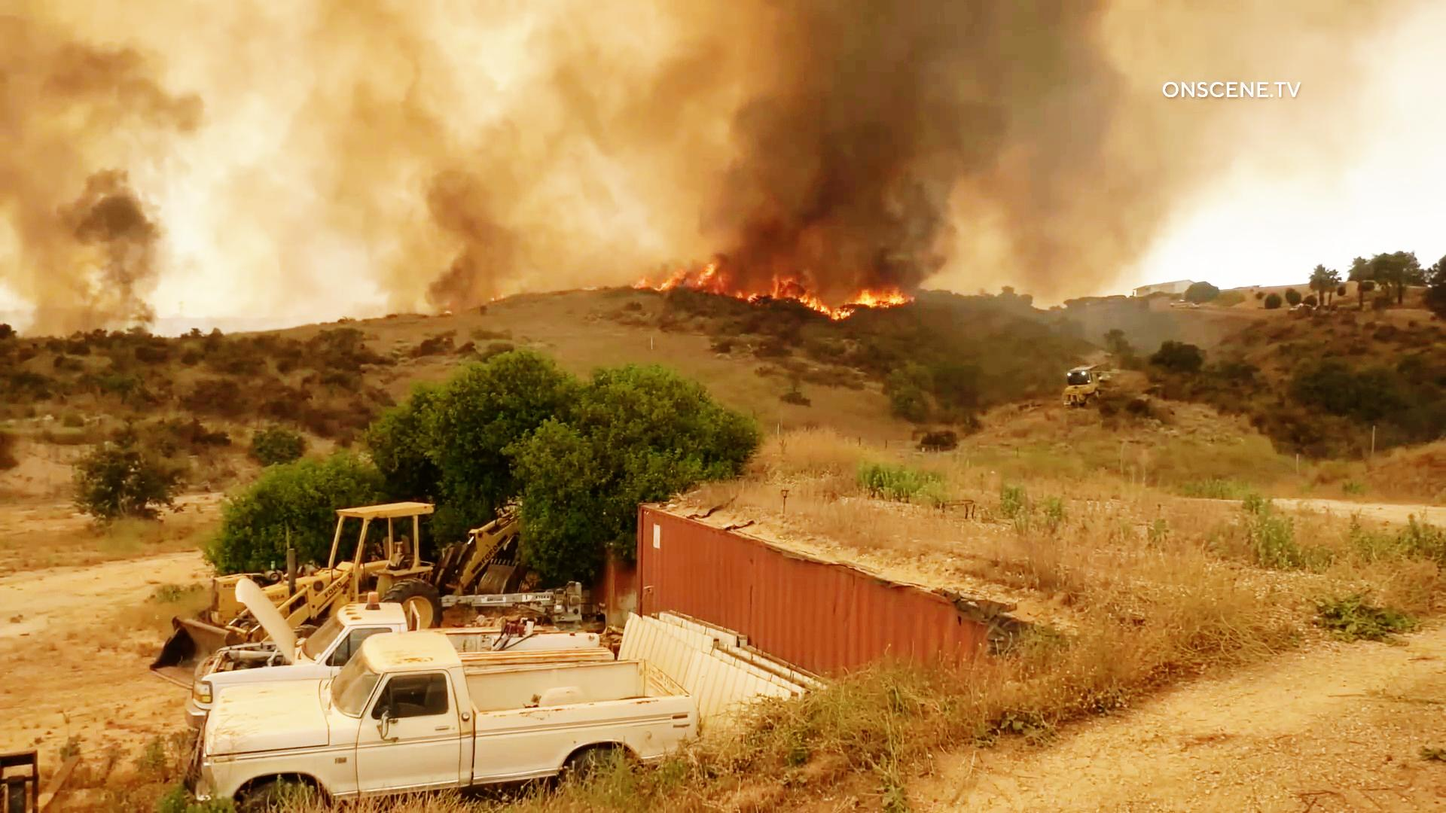fire: (642, 254, 910, 317)
smoke: (742, 2, 974, 258), (72, 190, 189, 315)
